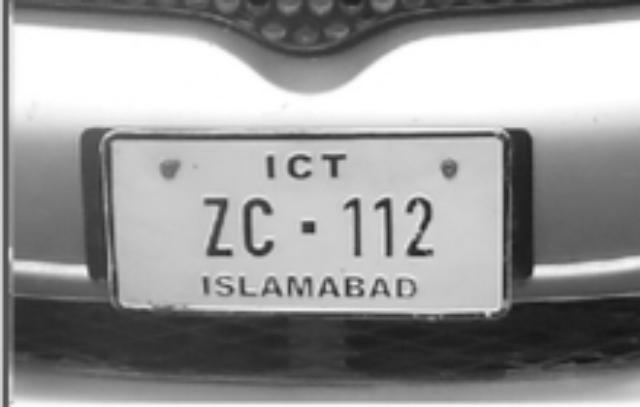Number: (201, 190, 439, 262)
